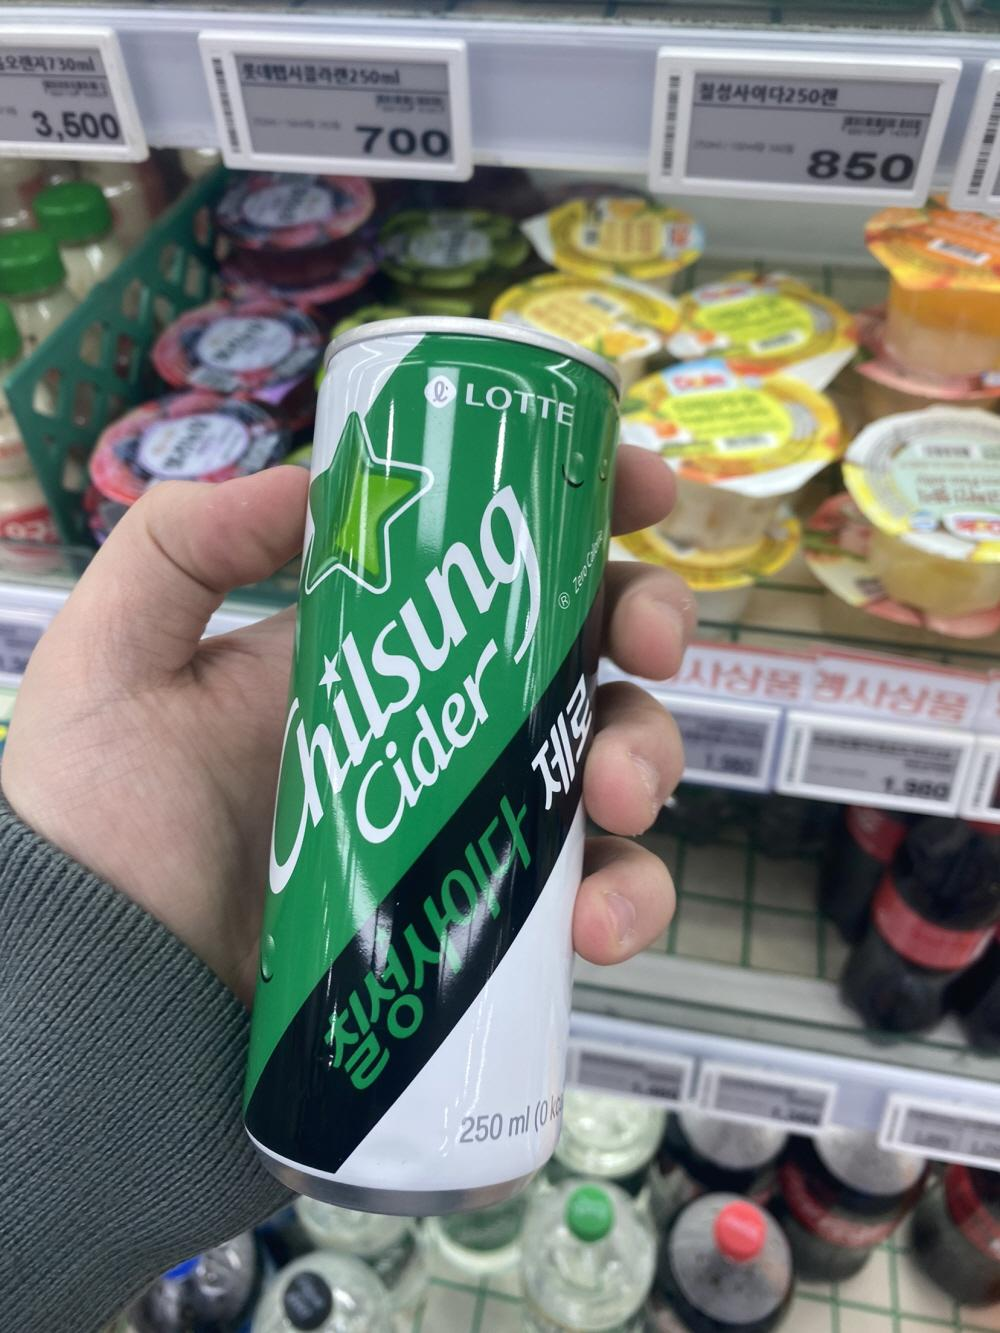chilsungcider_zero: (258, 314, 611, 1206)
